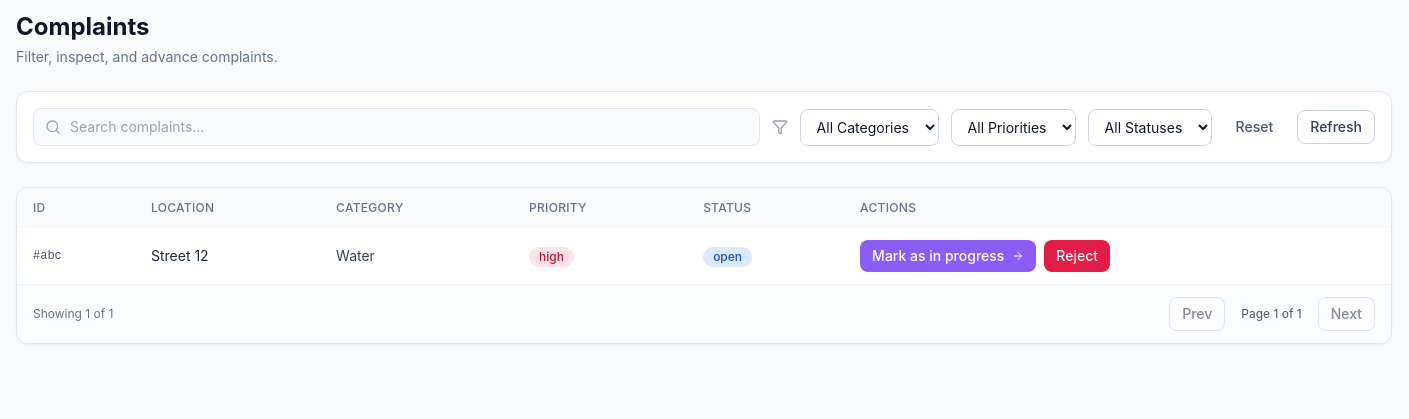
Test case: Complaints view › advances status and reloads
Expected: the text "Street 12" is shown, [135,228,320,284]
Click the button "Mark as in progress" at (948, 256), box [860,240,1036,272]
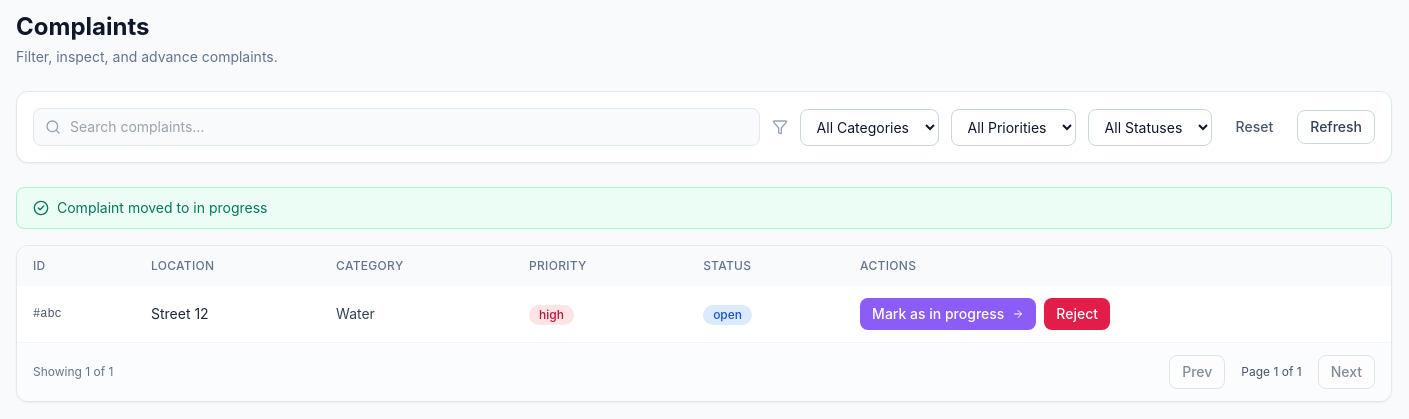
Expected: the text "Complaint moved to in progress" is shown, [16,187,1392,229]
